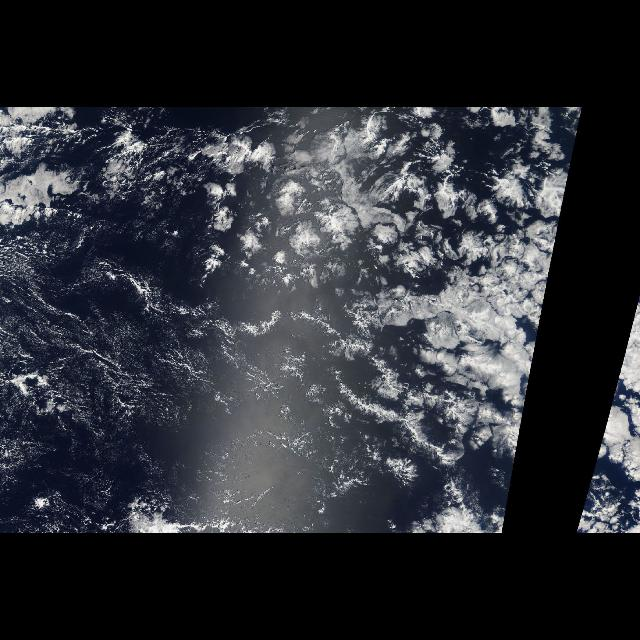Flower: (130, 121, 582, 409)
Sugar: (0, 279, 232, 437)
